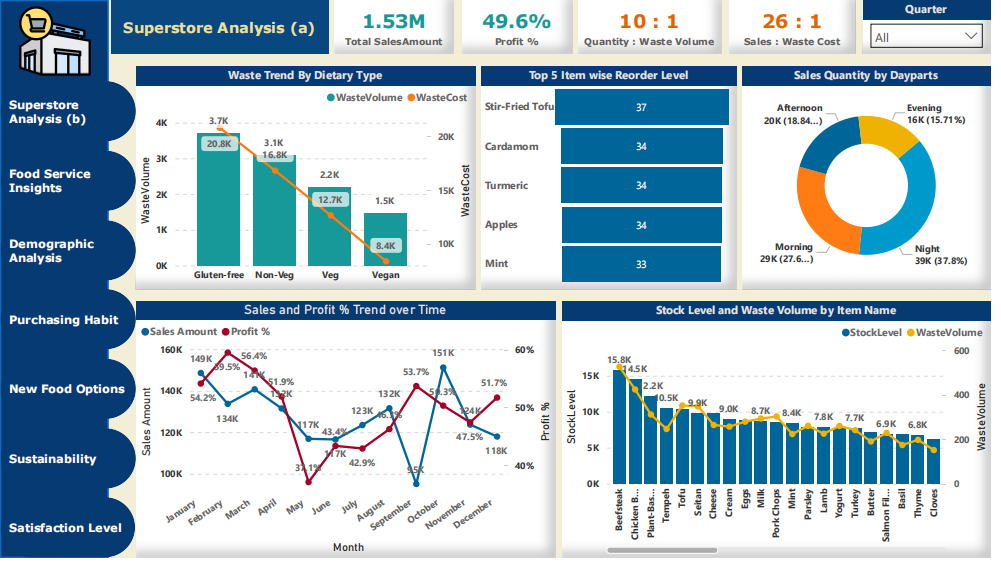

Layout of this report page (visuals, bound fields, positions):
{"tool":"powerbi","page":{"name":"Superstore (a)","canvas":[1280,720],"ordinal":1},"visuals":[{"type":"shape","box":[0,0,138.8,720],"z":0,"group":"g1"},{"type":"lineChart","title":"Sales and Profit % Trend over Time","fields":{"Y":["Sum(Superstore Analysis.SalesAmount)"],"Y2":["Superstore Analysis.Profit %"],"Category":["DateTable.Date.Variation.Date Hierarchy.Year","DateTable.Date.Variation.Date Hierarchy.Quarter","DateTable.Date.Variation.Date Hierarchy.Month","DateTable.Date.Variation.Date Hierarchy.Day"]},"box":[176.4,388.9,540.7,331.1],"z":0},{"type":"group","id":"g1","title":"Group 2","box":[0,0,138.8,720],"z":1000,"group":"g4"},{"type":"donutChart","title":"Sales Quantity by Dayparts","fields":{"Category":["Superstore Analysis.TimeCategory"],"Y":["Sum(Superstore Analysis.SalesQuantity)"]},"box":[958.6,85.3,321,287.7],"z":1000},{"type":"shape","box":[0,283.4,174.9,78],"z":1000,"group":"g3"},{"type":"lineClusteredColumnComboChart","title":"Waste Trend By Dietary Type","fields":{"Y":["Sum(Superstore Analysis.WasteVolume)"],"Category":["Superstore Analysis.DietaryType"],"Y2":["Sum(Superstore Analysis.WasteCost)"]},"box":[174.9,85.3,439.5,287.7],"z":2000},{"type":"group","id":"g2","title":"Group 1","box":[0,104.1,174.9,615.9],"z":2000,"group":"g4"},{"type":"shape","box":[0,373.1,174.9,78],"z":2000,"group":"g3"},{"type":"image","box":[0,0,138.8,104.1],"z":2001,"group":"g1"},{"type":"group","id":"g3","title":"Group 3","box":[0,193.8,174.9,526.2],"z":2003,"group":"g2"},{"type":"shape","box":[143.1,0,280.5,69.4],"z":3000},{"type":"shape","box":[0,462.7,174.9,78],"z":3000,"group":"g3"},{"type":"slicer","title":"Quarter","fields":{"Values":["DateTable.Date.Variation.Date Hierarchy.Quarter"]},"box":[1114.7,0,164.8,69.4],"z":4000},{"type":"shape","box":[0,104.1,174.9,78.1],"z":4000,"group":"g2"},{"type":"card","fields":{"Values":["Sum(Superstore Analysis.SalesAmount)"]},"box":[432.3,0,153.3,69.4],"z":5000},{"type":"shape","box":[0,193.8,174.9,78],"z":5000,"group":"g3"},{"type":"card","fields":{"Values":["Superstore Analysis.Profit %"]},"box":[597.1,0,141.7,69.4],"z":6000},{"type":"shape","box":[0,552.3,174.9,78],"z":6000,"group":"g3"},{"type":"card","fields":{"Values":["Superstore Analysis.SalesToWasteCostRatio"]},"box":[942.7,0,161.9,69.4],"z":7000},{"type":"shape","box":[0,641.9,174,78.1],"z":7000,"group":"g3"},{"type":"card","fields":{"Values":["Superstore Analysis.QuantityToWasteVolumeRatio"]},"box":[747,0,185.1,69.4],"z":8000},{"type":"lineClusteredColumnComboChart","title":"Stock Level and Waste Volume by Item Name","fields":{"Category":["Superstore Analysis.ItemName"],"Y":["Sum(Superstore Analysis.StockLevel)"],"Y2":["Sum(Superstore Analysis.WasteVolume)"]},"box":[725.8,388.9,553.7,331.1],"z":9000},{"type":"funnel","title":"Top 5 Item wise Reorder Level ","fields":{"Y":["Avg(Superstore Analysis.ReorderLevel)"],"Category":["Superstore Analysis.ItemName"]},"box":[621.7,85.3,329.6,287.7],"z":10000},{"type":"group","id":"g4","title":"Group 4","box":[0,0,174.9,720],"z":11000}]}

Visuals, with their boxes in screenshot pixels (x1, y1, x2, y2), scaled from the page's 1280x720 canvas onto the 1001x562 screenshot:
shape: x1=0, y1=0, x2=109, y2=561
"Sales and Profit % Trend over Time" lineChart: x1=138, y1=304, x2=561, y2=561
"Group 2" group: x1=0, y1=0, x2=109, y2=561
"Sales Quantity by Dayparts" donutChart: x1=750, y1=67, x2=1000, y2=291
shape: x1=0, y1=221, x2=137, y2=282
"Waste Trend By Dietary Type" lineClusteredColumnComboChart: x1=137, y1=67, x2=480, y2=291
"Group 1" group: x1=0, y1=81, x2=137, y2=561
shape: x1=0, y1=291, x2=137, y2=352
image: x1=0, y1=0, x2=109, y2=81
"Group 3" group: x1=0, y1=151, x2=137, y2=561
shape: x1=112, y1=0, x2=331, y2=54
shape: x1=0, y1=361, x2=137, y2=422
"Quarter" slicer: x1=872, y1=0, x2=1000, y2=54
shape: x1=0, y1=81, x2=137, y2=142
card - Sum(Superstore Analysis.SalesAmount): x1=338, y1=0, x2=458, y2=54
shape: x1=0, y1=151, x2=137, y2=212
card - Superstore Analysis.Profit %: x1=467, y1=0, x2=578, y2=54
shape: x1=0, y1=431, x2=137, y2=492
card - Superstore Analysis.SalesToWasteCostRatio: x1=737, y1=0, x2=864, y2=54
shape: x1=0, y1=501, x2=136, y2=561
card - Superstore Analysis.QuantityToWasteVolumeRatio: x1=584, y1=0, x2=729, y2=54
"Stock Level and Waste Volume by Item Name" lineClusteredColumnComboChart: x1=568, y1=304, x2=1000, y2=561
"Top 5 Item wise Reorder Level " funnel: x1=486, y1=67, x2=744, y2=291
"Group 4" group: x1=0, y1=0, x2=137, y2=561
